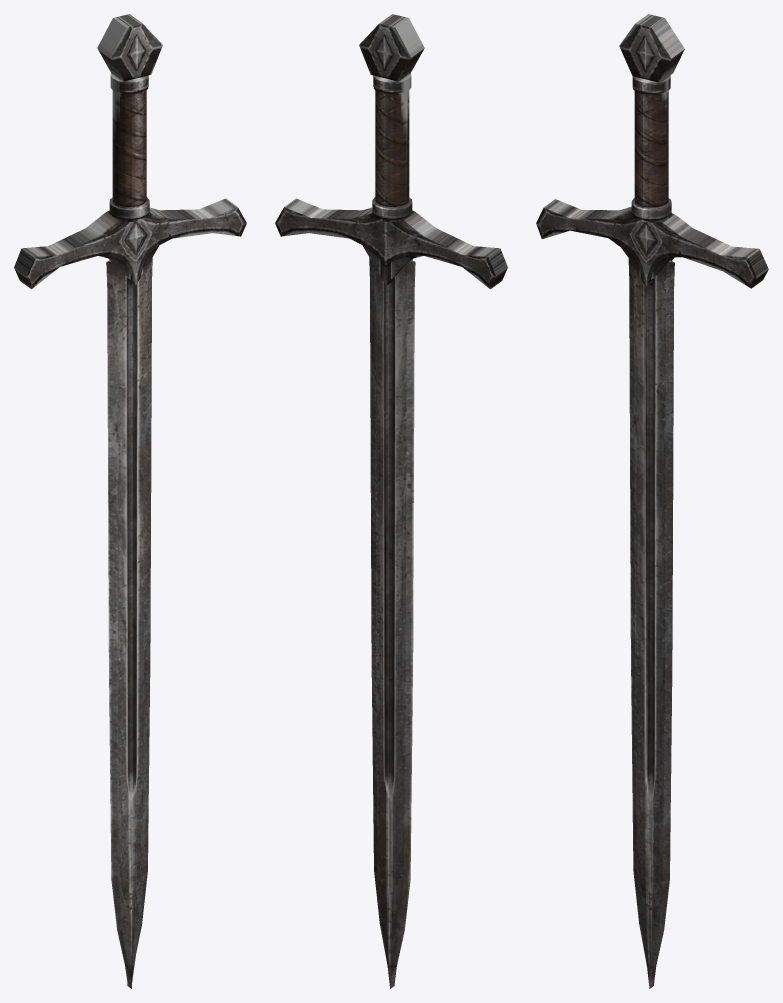
Rendered from sword-F-common.glb.
The picture shows the model from 3 angles, left to right: view 1: azimuth 30°, elevation 25°; view 2: azimuth 150°, elevation 25°; view 3: azimuth 330°, elevation 25°; orthographic projection.
Visible parts, largest first — view 1: Espada_F_Ferro_Blade, Forged_guard, Leather_wrapped_grip, Diamond_pommel, Pommel_ring, Guard_ring; view 2: Espada_F_Ferro_Blade, Forged_guard, Leather_wrapped_grip, Diamond_pommel, Pommel_ring, Guard_ring; view 3: Espada_F_Ferro_Blade, Forged_guard, Leather_wrapped_grip, Diamond_pommel, Guard_ring, Pommel_ring.
Part boxes in pixels (bbox=[...]): Espada_F_Ferro_Blade: bbox=[106, 258, 152, 988]; Forged_guard: bbox=[14, 198, 246, 289]; Leather_wrapped_grip: bbox=[112, 90, 146, 208]; Diamond_pommel: bbox=[97, 14, 162, 81]; Pommel_ring: bbox=[110, 72, 148, 94]; Guard_ring: bbox=[109, 197, 149, 221]; Espada_F_Ferro_Blade: bbox=[369, 258, 415, 988]; Forged_guard: bbox=[275, 198, 507, 289]; Leather_wrapped_grip: bbox=[375, 90, 409, 208]; Diamond_pommel: bbox=[359, 14, 424, 81]; Pommel_ring: bbox=[373, 72, 411, 94]; Guard_ring: bbox=[372, 197, 412, 221]; Espada_F_Ferro_Blade: bbox=[628, 258, 674, 988]; Forged_guard: bbox=[536, 199, 768, 288]; Leather_wrapped_grip: bbox=[634, 91, 668, 209]; Diamond_pommel: bbox=[619, 14, 684, 82]; Guard_ring: bbox=[631, 198, 671, 222]; Pommel_ring: bbox=[632, 75, 670, 95].
Size of the model in its own units: 0.239 by 0.9982 by 0.0377.
Materials: 2 (2 with a texture image).
